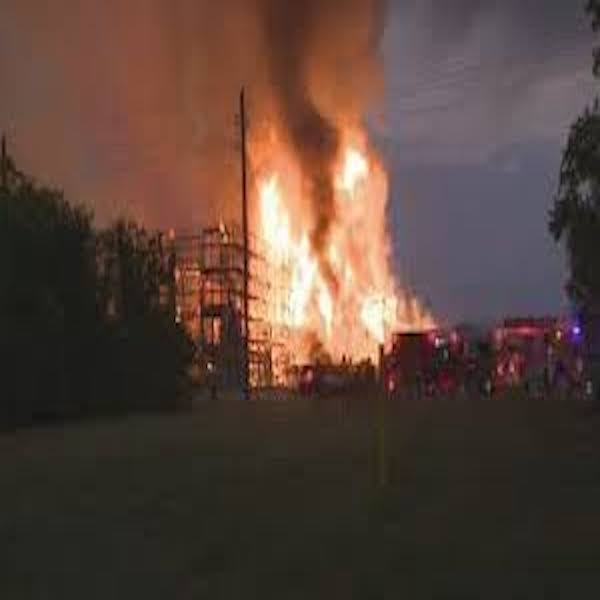fire: (247, 103, 394, 356), (394, 289, 436, 332)
